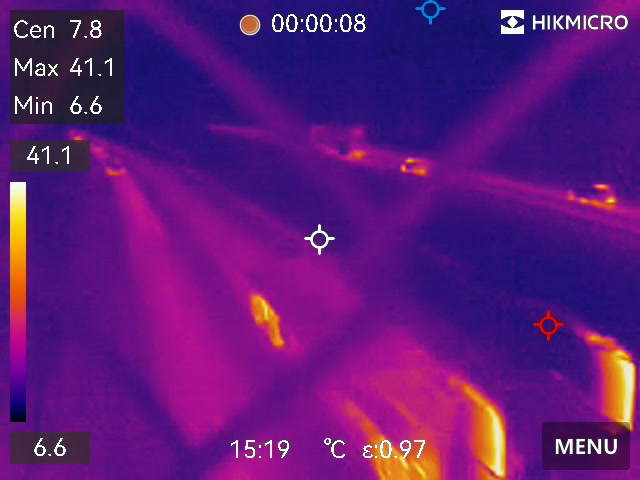heavyTruck: (305, 117, 378, 160)
vehicle: (568, 179, 615, 208)
